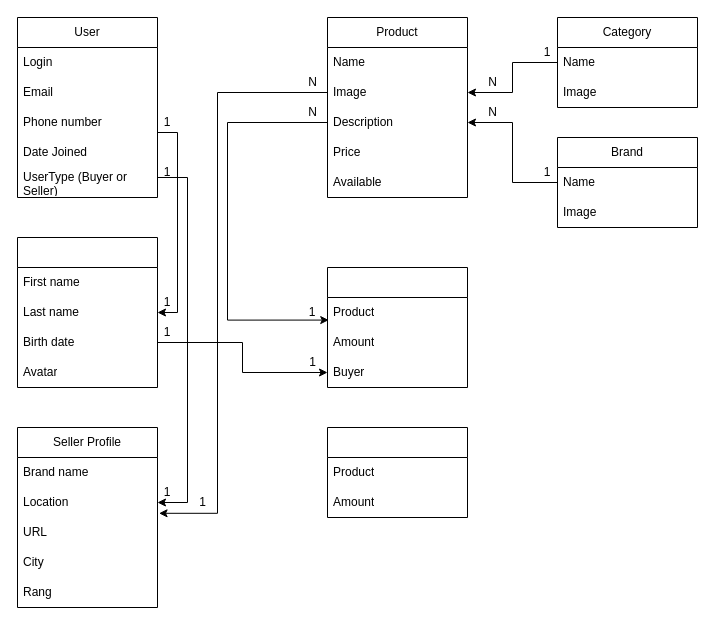
This 715x625 diagram has some shape labels left out. Here are the shapes that lost their labels. From the top down, the box of each, then its label:
(16, 236, 158, 388): Buyer Profile
(326, 266, 468, 388): Order
(326, 426, 468, 518): Deal
